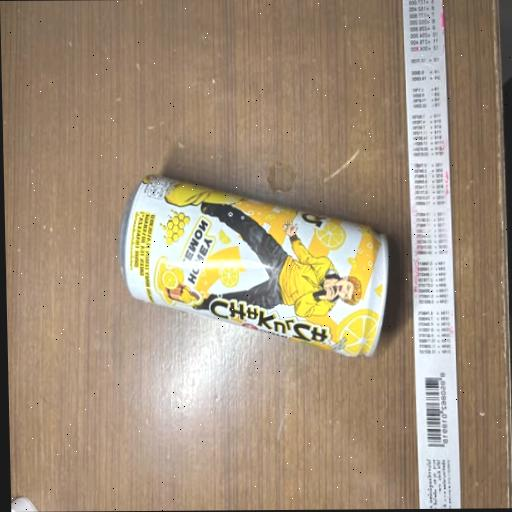bottle: (110, 154, 406, 402)
